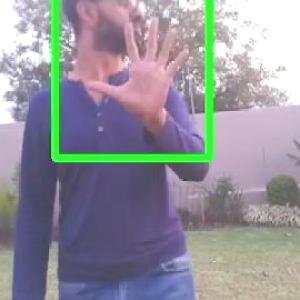follow_hand: (86, 12, 195, 123)
